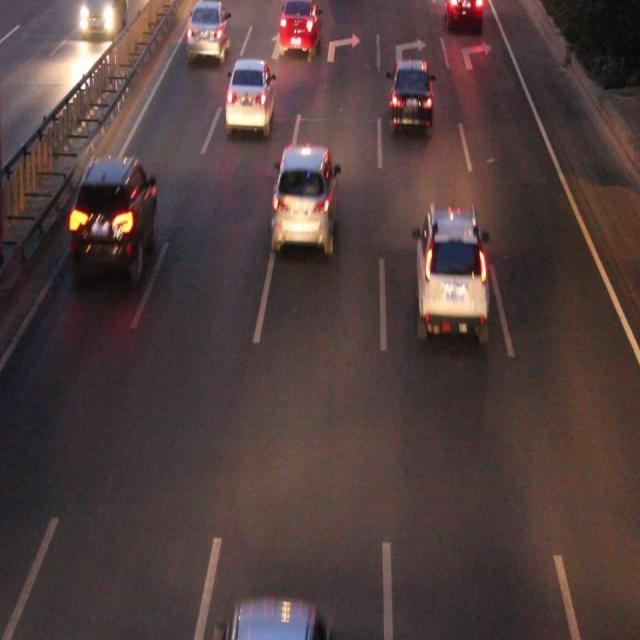car: (73, 161, 156, 272), (416, 210, 487, 329), (272, 144, 335, 249), (226, 59, 273, 129), (390, 60, 431, 127), (188, 1, 229, 57), (279, 1, 320, 50), (445, 1, 482, 27)
